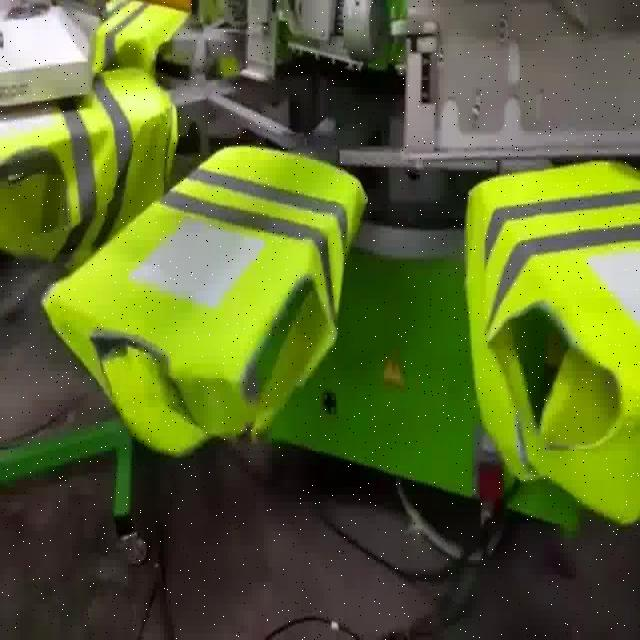Vest: (26, 103, 371, 635), (477, 149, 640, 600), (0, 67, 168, 258)
